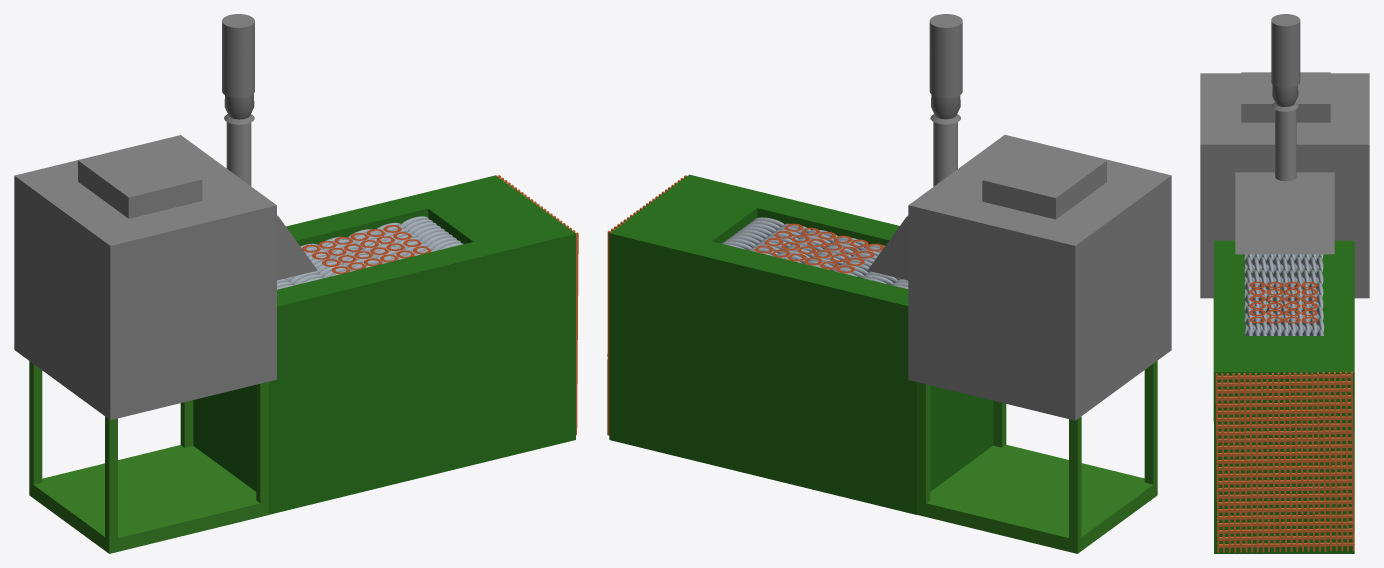
Rendered from detailsamongallwithoutfire.fbx.
3 renders of one model, left to right at view 1: azimuth 30°, elevation 25°; view 2: azimuth 150°, elevation 25°; view 3: azimuth 270°, elevation 25°, orthographic. The views are drawn at different scales.
Visible parts, largest first — view 1: Cube.002, Cube, Cube.005, Cylinder.002, Тор.006, Cylinder, Cube.001, Окружность, Окружность.001, Окружность.003, Окружность.002, Cube.004; view 2: Cube.002, Cube, Cube.005, Cylinder.002, Тор.006, Cube.001, Cylinder, Окружность, Cube.004, Окружность.003, Окружность.002, Окружность.001; view 3: Cube.002, Cube, Cube.003, Cube.004, Cube.001, Cylinder.002, Тор.006, Cylinder, Окружность.006, Окружность.005, Окружность.001, Окружность.004 (+5 smaller).
Part boxes in pixels (box(x1,y1,x2,y2)): Cube.002: box(193, 175, 575, 514); Cube: box(14, 135, 276, 420); Cube.005: box(29, 361, 268, 553); Cylinder.002: box(222, 14, 254, 97); Тор.006: box(302, 225, 431, 273); Cylinder: box(226, 122, 251, 185); Cube.001: box(277, 215, 317, 280); Окружность: box(400, 216, 463, 250); Окружность.001: box(373, 222, 436, 256); Окружность.003: box(346, 229, 408, 263); Окружность.002: box(318, 236, 378, 270); Cube.004: box(496, 175, 578, 434); Cube.002: box(609, 174, 993, 514); Cube: box(908, 135, 1171, 420); Cube.005: box(917, 361, 1157, 553); Cylinder.002: box(929, 14, 962, 98); Тор.006: box(755, 223, 884, 273); Cube.001: box(867, 215, 908, 280); Cylinder: box(933, 122, 957, 186); Окружность: box(722, 217, 784, 250); Cube.004: box(607, 175, 686, 435); Окружность.003: box(777, 229, 839, 263); Окружность.002: box(804, 237, 864, 270); Окружность.001: box(749, 223, 810, 256); Cube.002: box(1214, 240, 1354, 553); Cube: box(1200, 72, 1369, 298); Cube.003: box(1216, 374, 1354, 547); Cube.004: box(1215, 371, 1354, 552); Cube.001: box(1235, 172, 1334, 254); Cylinder.002: box(1271, 14, 1300, 87); Тор.006: box(1249, 281, 1317, 323); Cylinder: box(1275, 109, 1296, 181); Окружность.006: box(1244, 257, 1323, 273); Окружность.005: box(1244, 270, 1323, 286); Окружность.001: box(1244, 318, 1324, 334); Окружность.004: box(1244, 282, 1323, 299).
Bounding box in the file's own units: 586 × 542 × 205.
